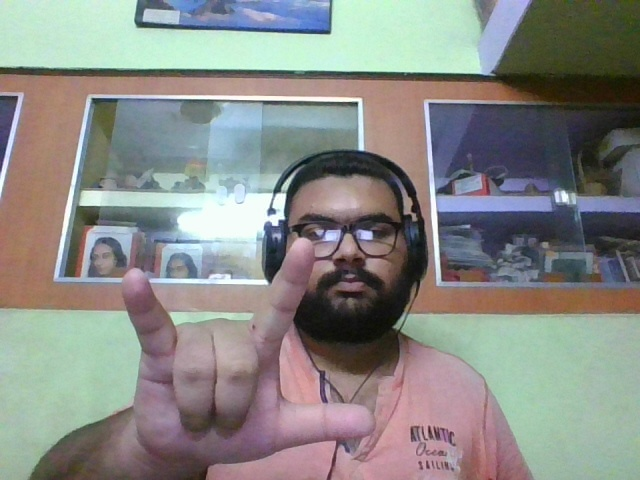hello: (121, 238, 377, 460)
